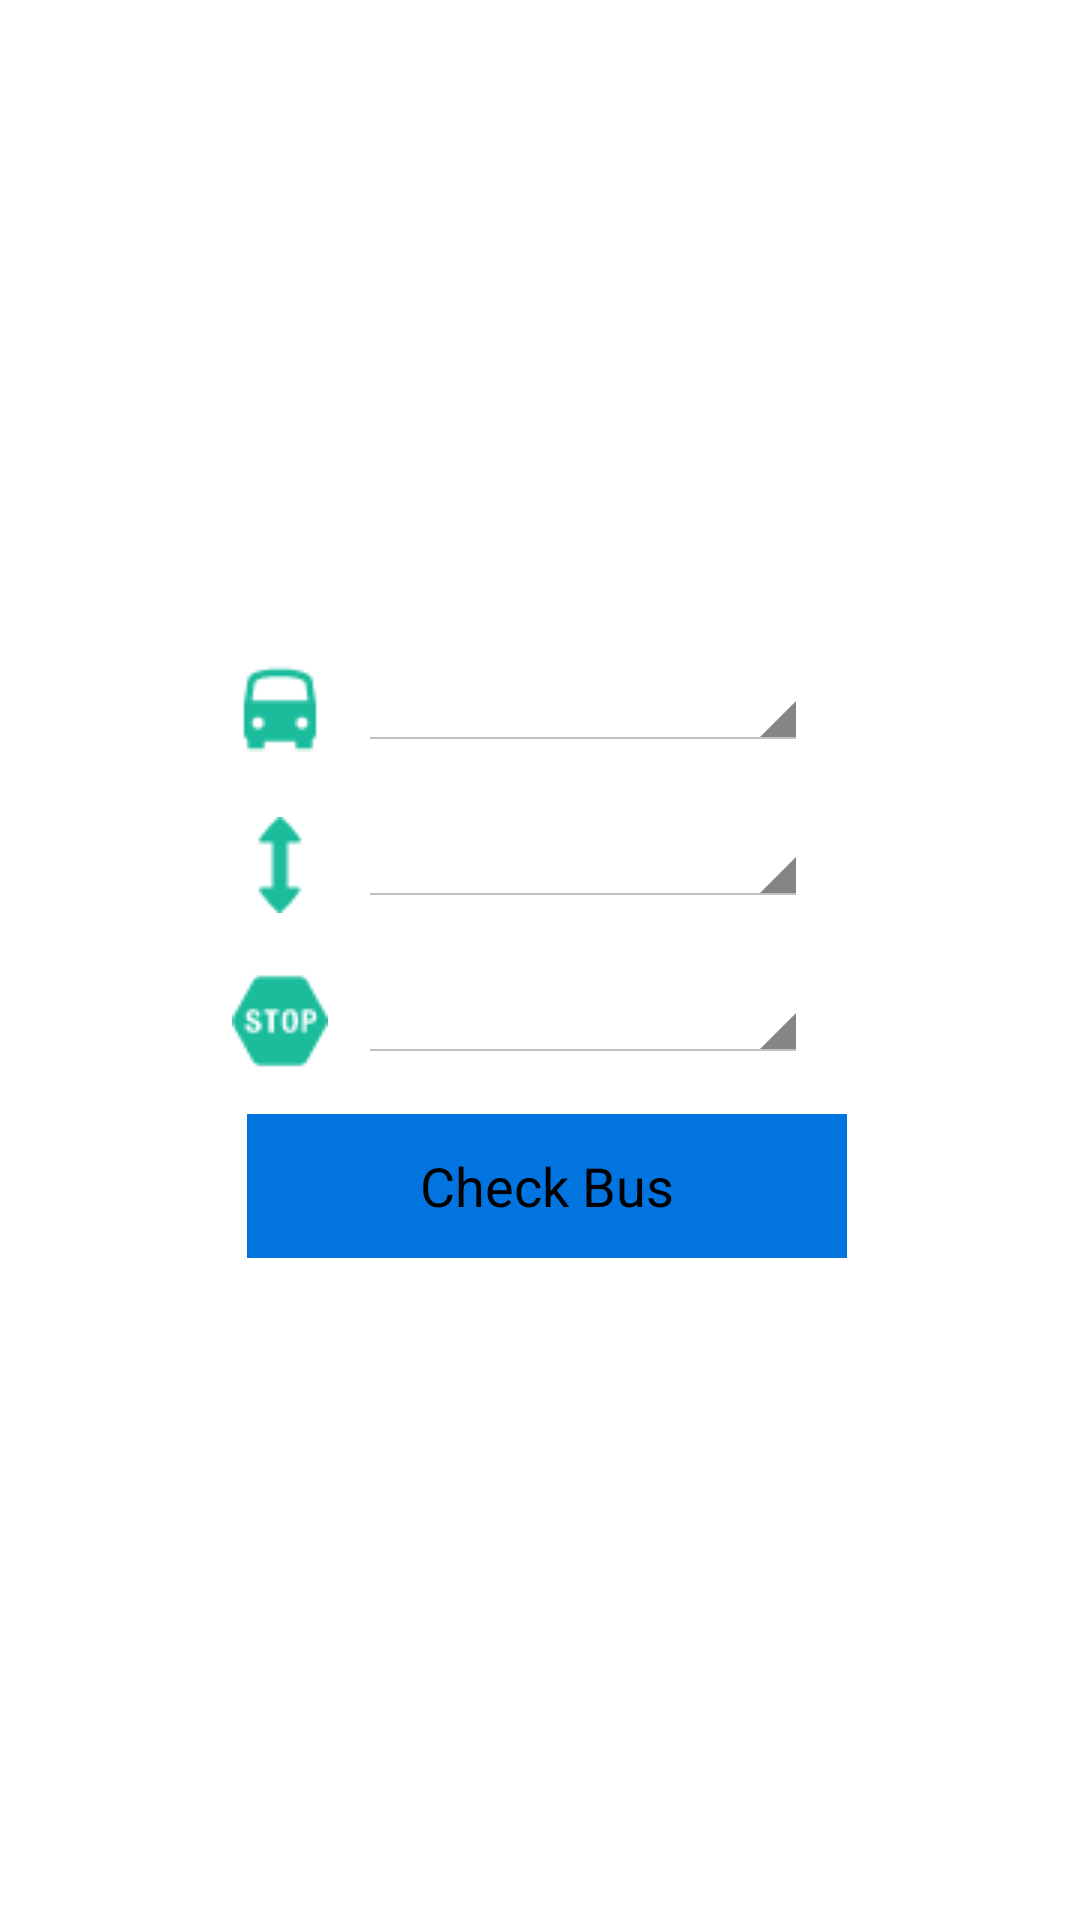

Screen size 1080w x 1920h. Icon name, then its center in pixels as (x=x, y=y):
bound: (x=280, y=865)
bus: (x=280, y=709)
